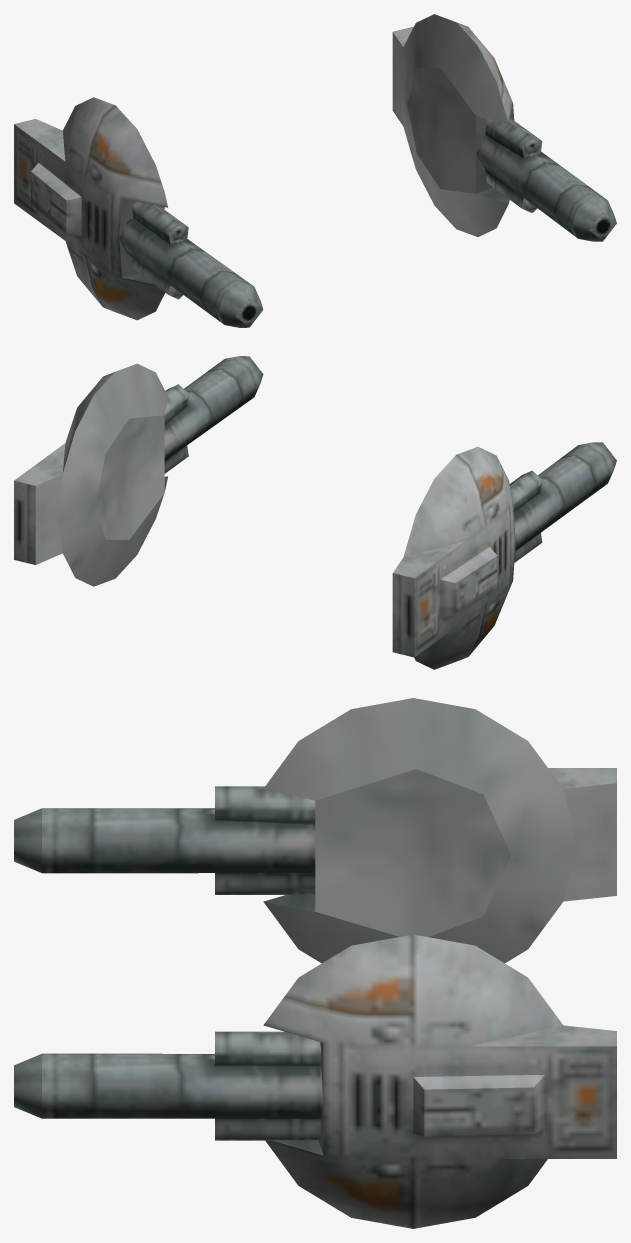
The model's file is kse_firespray_weapon1_s05_l1.fbx.
3 renders of one model, top to bottom at view 1: azimuth 30°, elevation 25°; view 2: azimuth 150°, elevation 25°; view 3: azimuth 270°, elevation 25°, orthographic. The views are drawn at different scales.
Parts seen in each view (by area): view 1: mesh_node; view 2: mesh_node; view 3: mesh_node.
Part boxes in pixels (x1=…): mesh_node: x1=14, y1=14, x2=616, y2=327; mesh_node: x1=14, y1=356, x2=616, y2=669; mesh_node: x1=14, y1=698, x2=616, y2=1228.
Size of the model in its own units: 4.58 by 2.1 by 3.9.
1 material, 1 textured.
